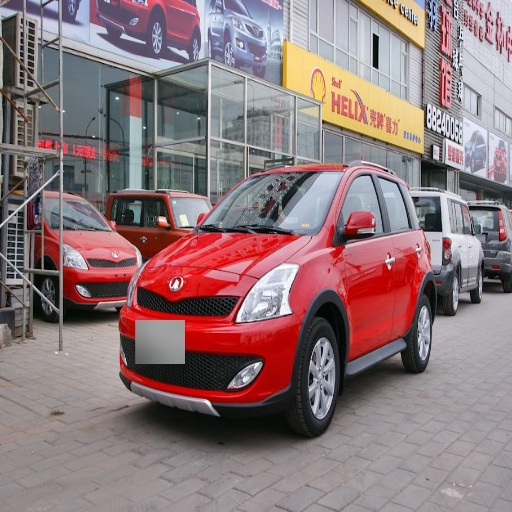front_bumper: (122, 274, 304, 412)
front_glass: (197, 174, 340, 235)
front_left_door: (336, 167, 393, 355)
trunk: (418, 233, 458, 295)
